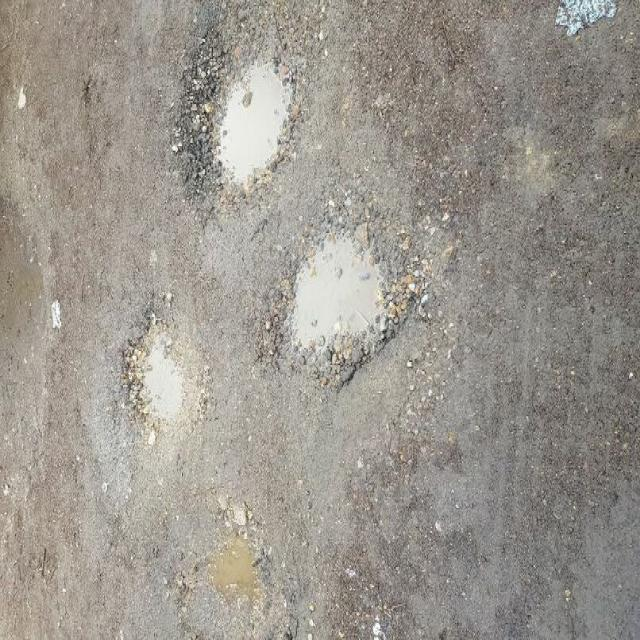Pothole: (264, 194, 419, 399), (171, 3, 318, 211), (118, 288, 211, 450)
